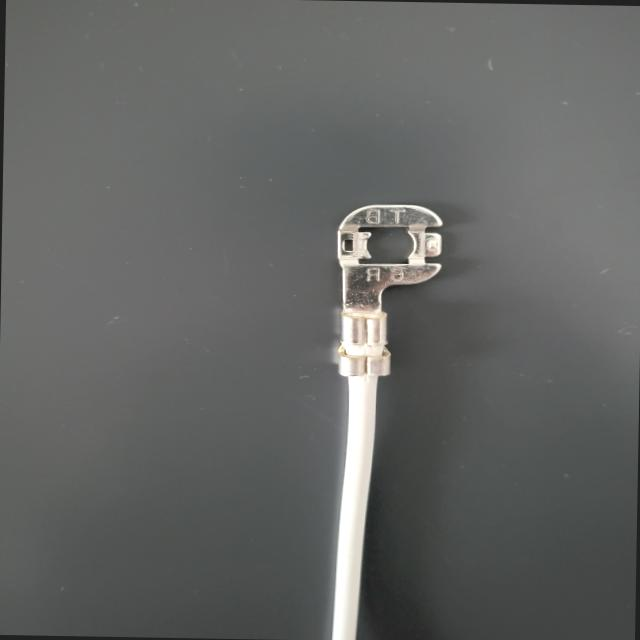defect: (310, 299, 425, 396)
